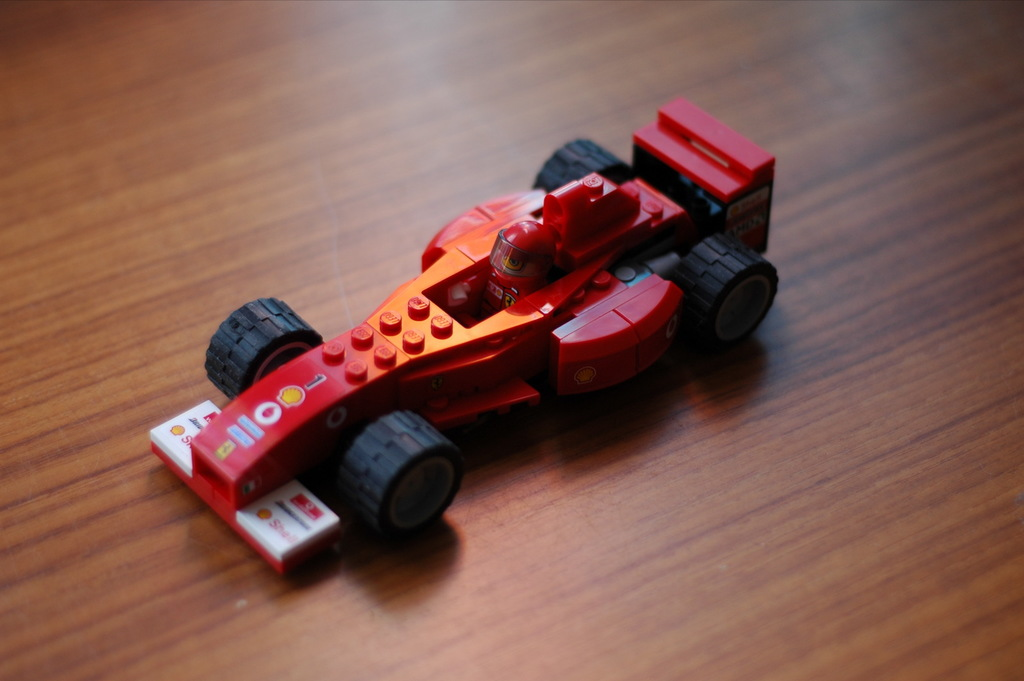Car: (163, 149, 725, 553)
